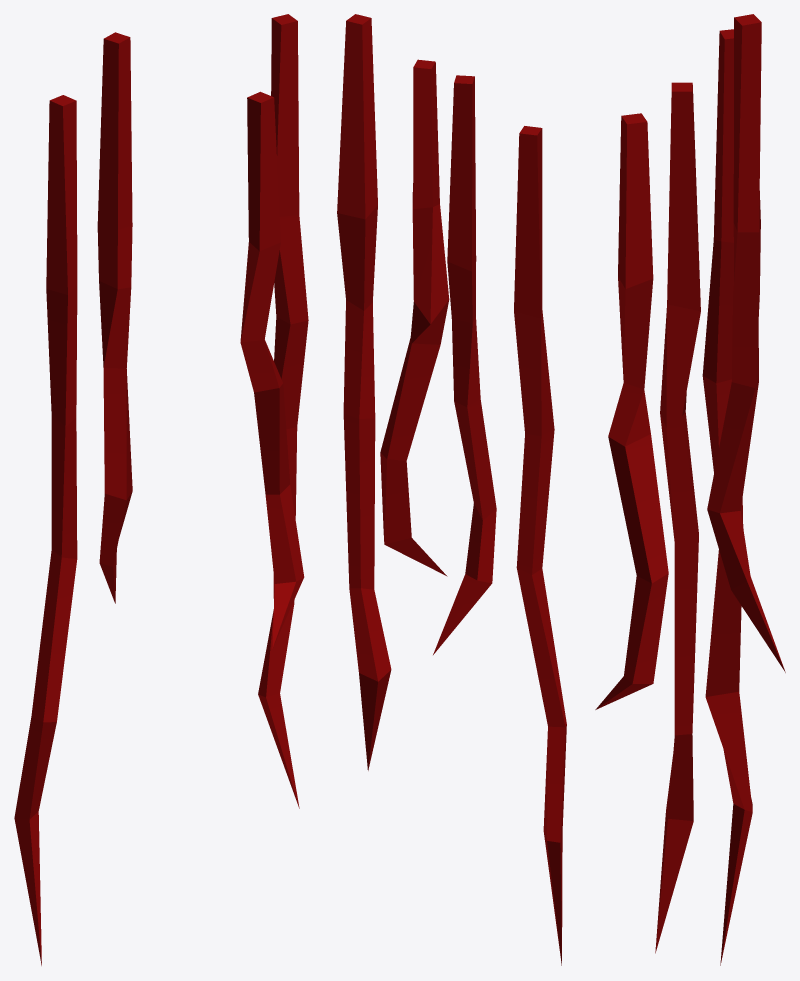
File: SM_Env_Vines_02.glb
The picture shows the model from 3 angles, left to right: view 1: azimuth 30°, elevation 25°; view 2: azimuth 150°, elevation 25°; view 3: azimuth 270°, elevation 25°; orthographic projection. The views are drawn at different scales.
Visible parts, largest first — view 1: SM_Env_Vines_02; view 2: SM_Env_Vines_02; view 3: SM_Env_Vines_02.
Boxes of the visible parts, left/top/right/bottom form: SM_Env_Vines_02: left=14, top=14, right=308, bottom=965; SM_Env_Vines_02: left=337, top=14, right=566, bottom=965; SM_Env_Vines_02: left=595, top=14, right=785, bottom=965.
Size of the model in its own units: 0.6324 by 2.14 by 0.3699.
